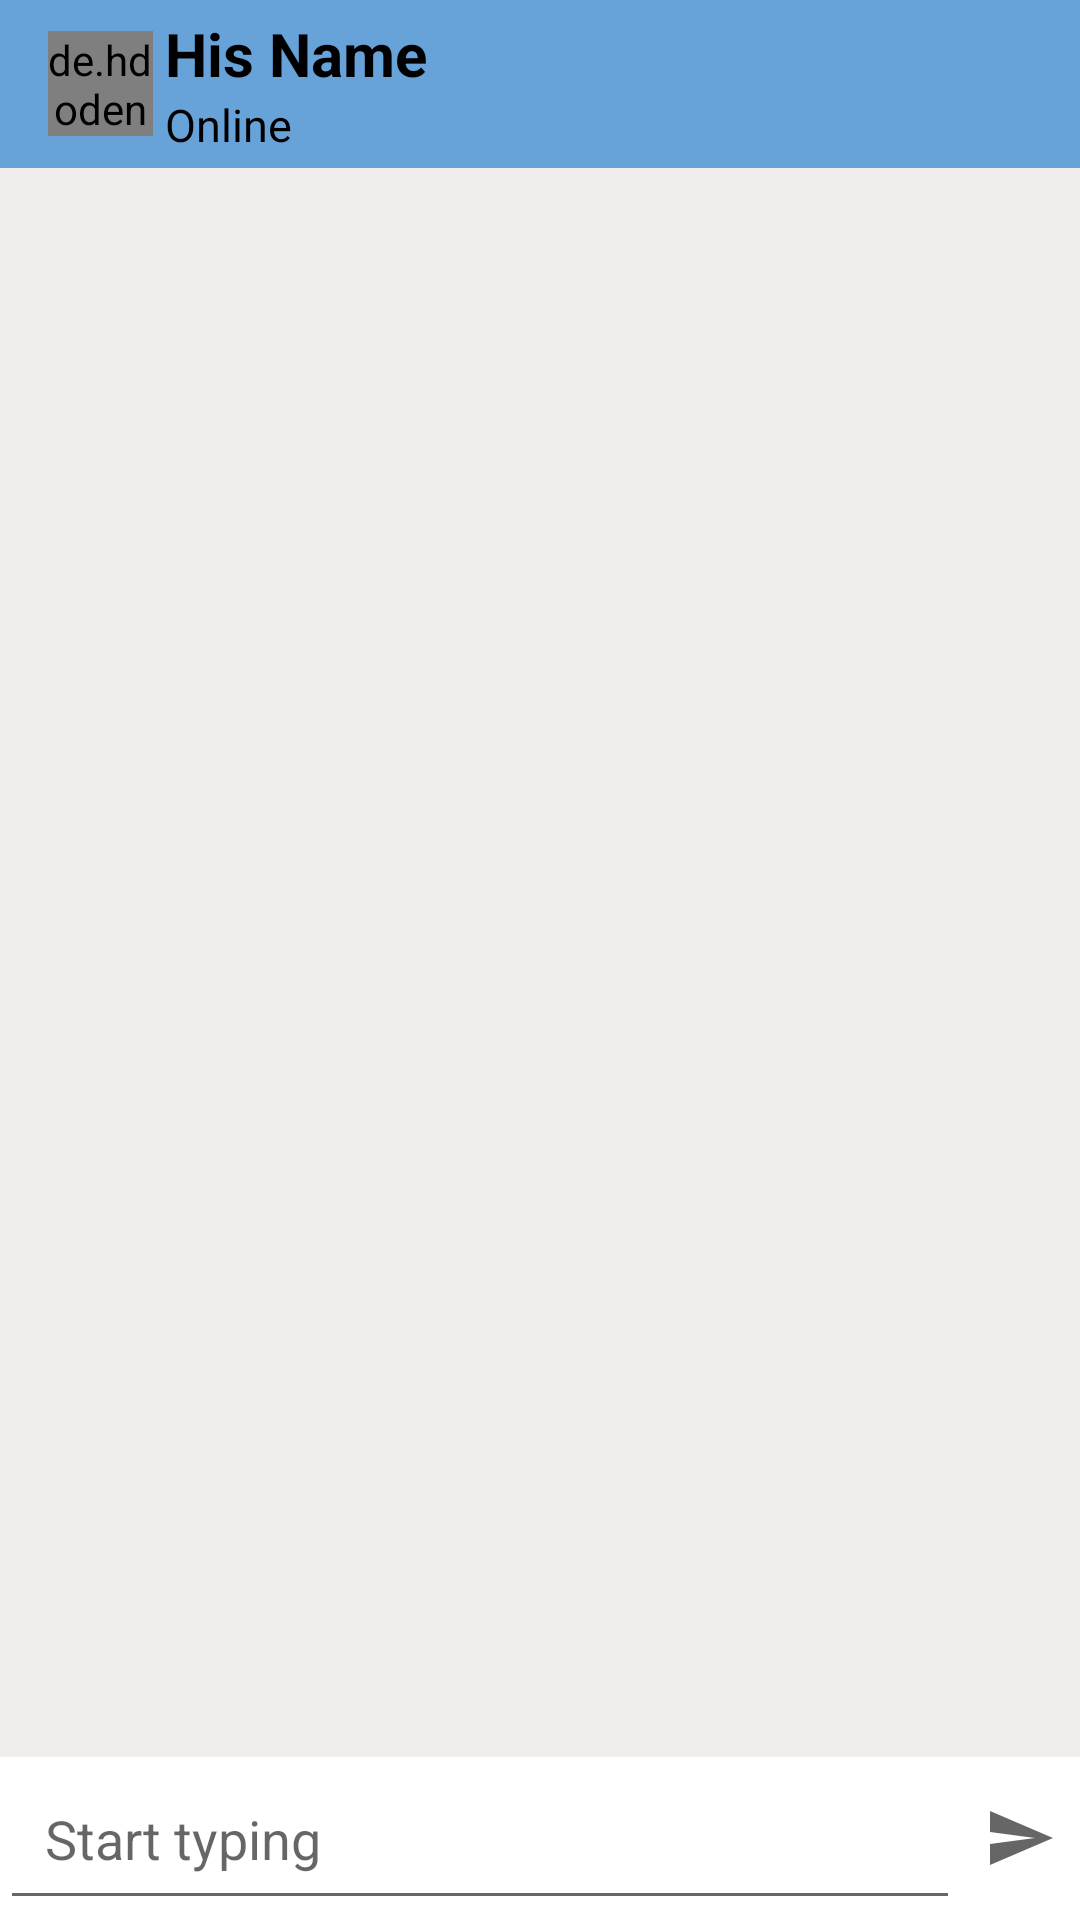

Named icons in this screenshot (1080w x 1920h) and their bounding boxes, [x1, y1, x2, y2]:
send: [990, 1811, 1053, 1865]
